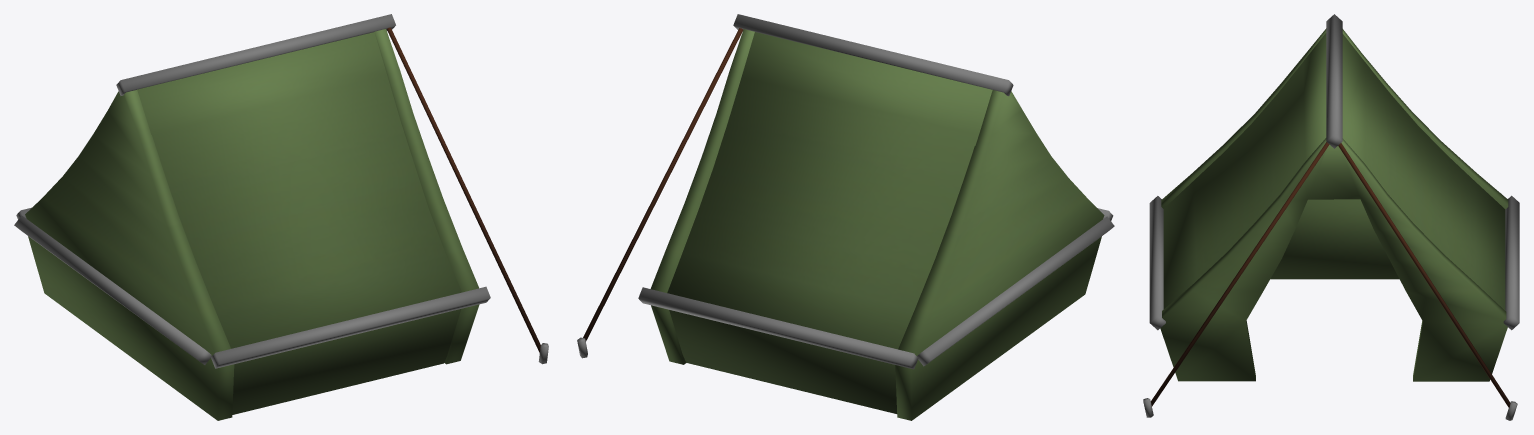
The model's file is tent.obj.
The picture shows the model from 3 angles, left to right: view 1: azimuth 30°, elevation 25°; view 2: azimuth 150°, elevation 25°; view 3: azimuth 270°, elevation 25°; orthographic projection. The views are drawn at different scales.
Parts seen in each view (by area): view 1: tent; view 2: tent; view 3: tent.
Part boxes in pixels (bbox=[...]): tent: bbox=[14, 14, 548, 420]; tent: bbox=[577, 14, 1114, 420]; tent: bbox=[1143, 14, 1519, 420].
Size of the model in its own units: 2.84 by 2.24 by 2.94.
